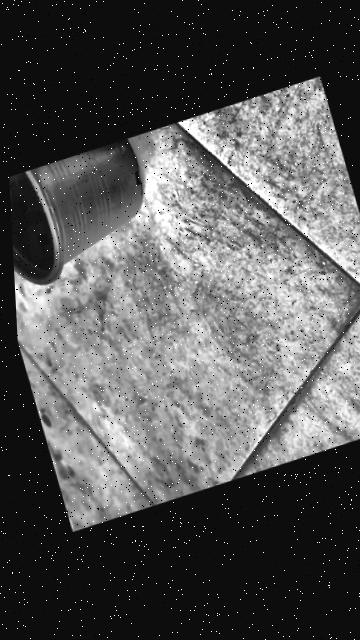pot: (8, 135, 162, 296)
